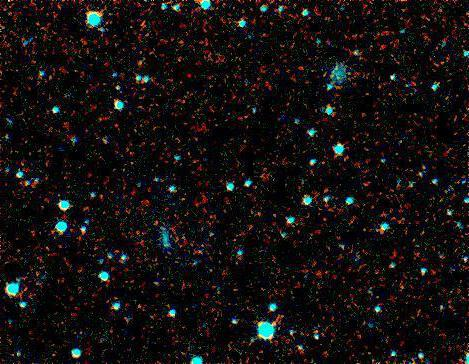star: (258, 307, 288, 337)
